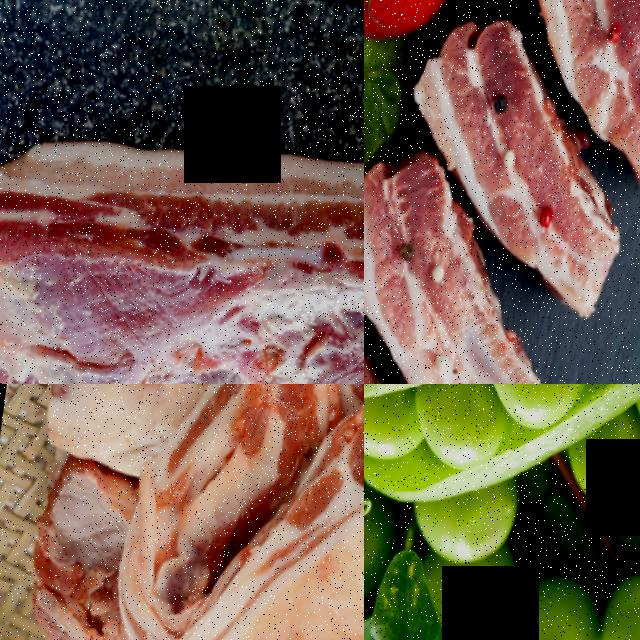peas: (398, 384, 640, 498)
pork belly: (0, 86, 364, 384), (153, 384, 364, 640), (2, 384, 209, 640), (402, 10, 584, 232), (364, 153, 491, 363), (585, 0, 640, 192), (364, 0, 466, 51)
